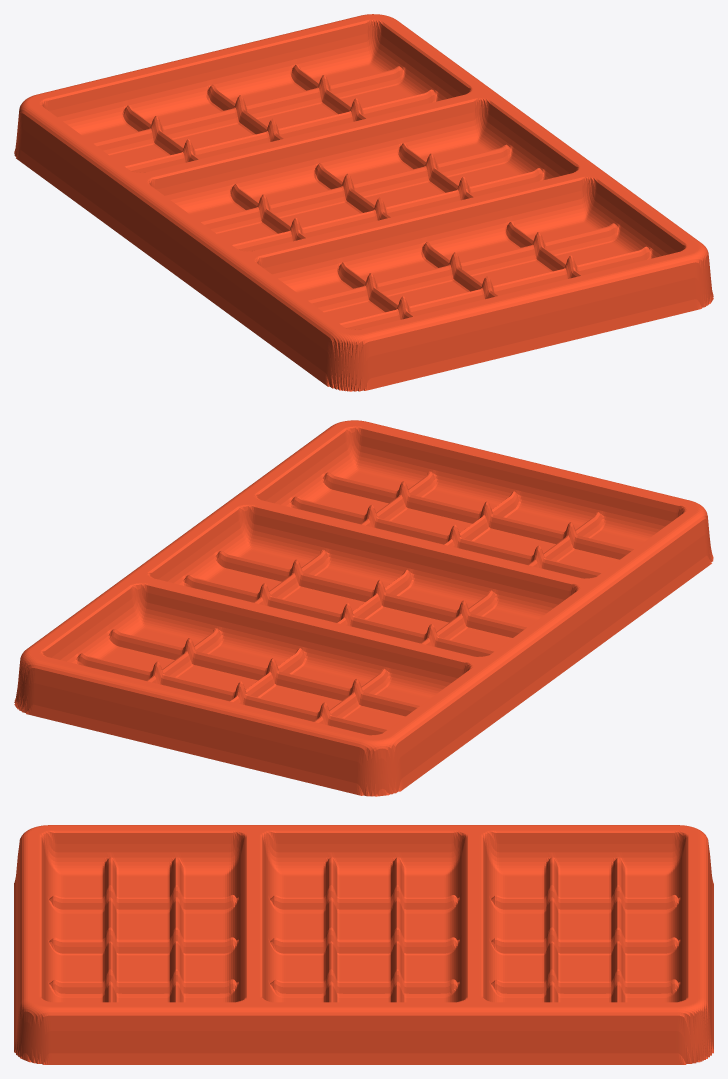
Rendered from mold.glb.
3 renders of one model, top to bottom at view 1: azimuth 30°, elevation 25°; view 2: azimuth 150°, elevation 25°; view 3: azimuth 270°, elevation 25°, orthographic. The views are drawn at different scales.
Visible parts, largest first — view 1: geometry_0; view 2: geometry_0; view 3: geometry_0.
Part boxes in pixels (bbox=[...]): geometry_0: bbox=[14, 14, 713, 391]; geometry_0: bbox=[14, 420, 713, 796]; geometry_0: bbox=[14, 825, 713, 1064].
Size of the model in its own units: 0.116 by 0.0145 by 0.1775.
